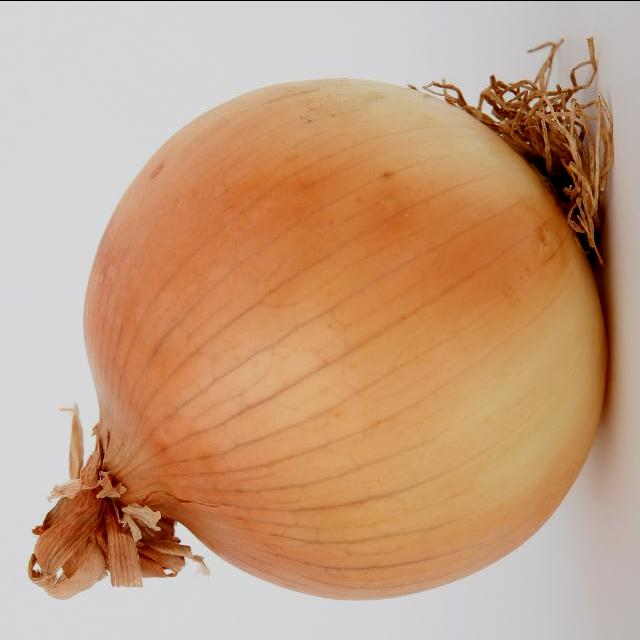onion: (28, 70, 628, 612)
